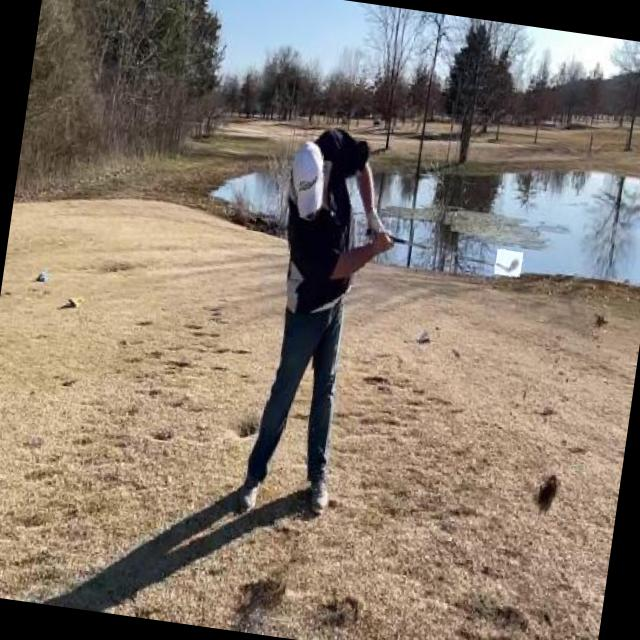club head: (494, 249, 523, 277)
